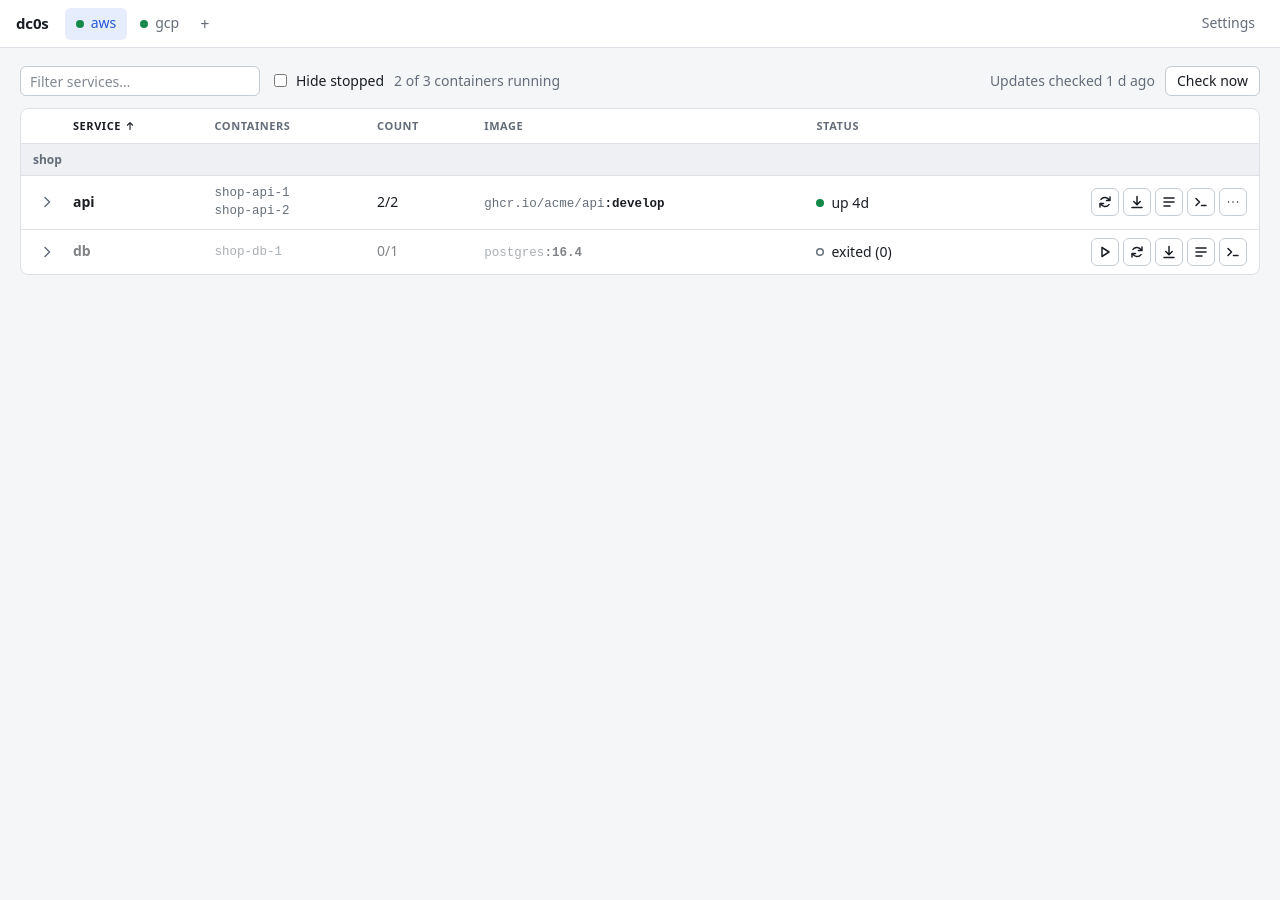
Test: running an action reloads the list when it finishes
Click the button named "Restart" in the row of "shop-api-1" at (1105, 202), box [1091,188,1119,216]
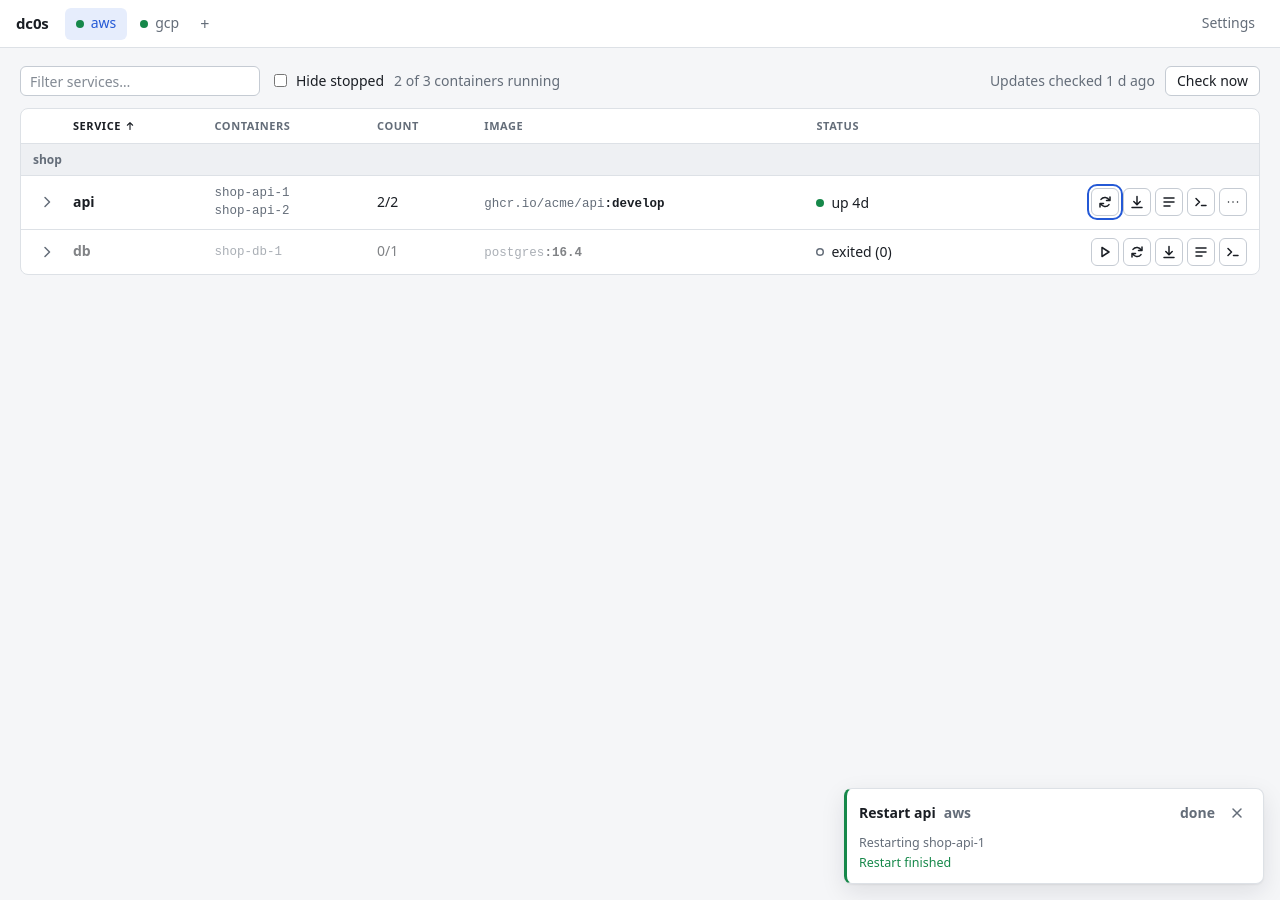
Check: the list item "Restart finished" is shown, box [859,854,951,871]
